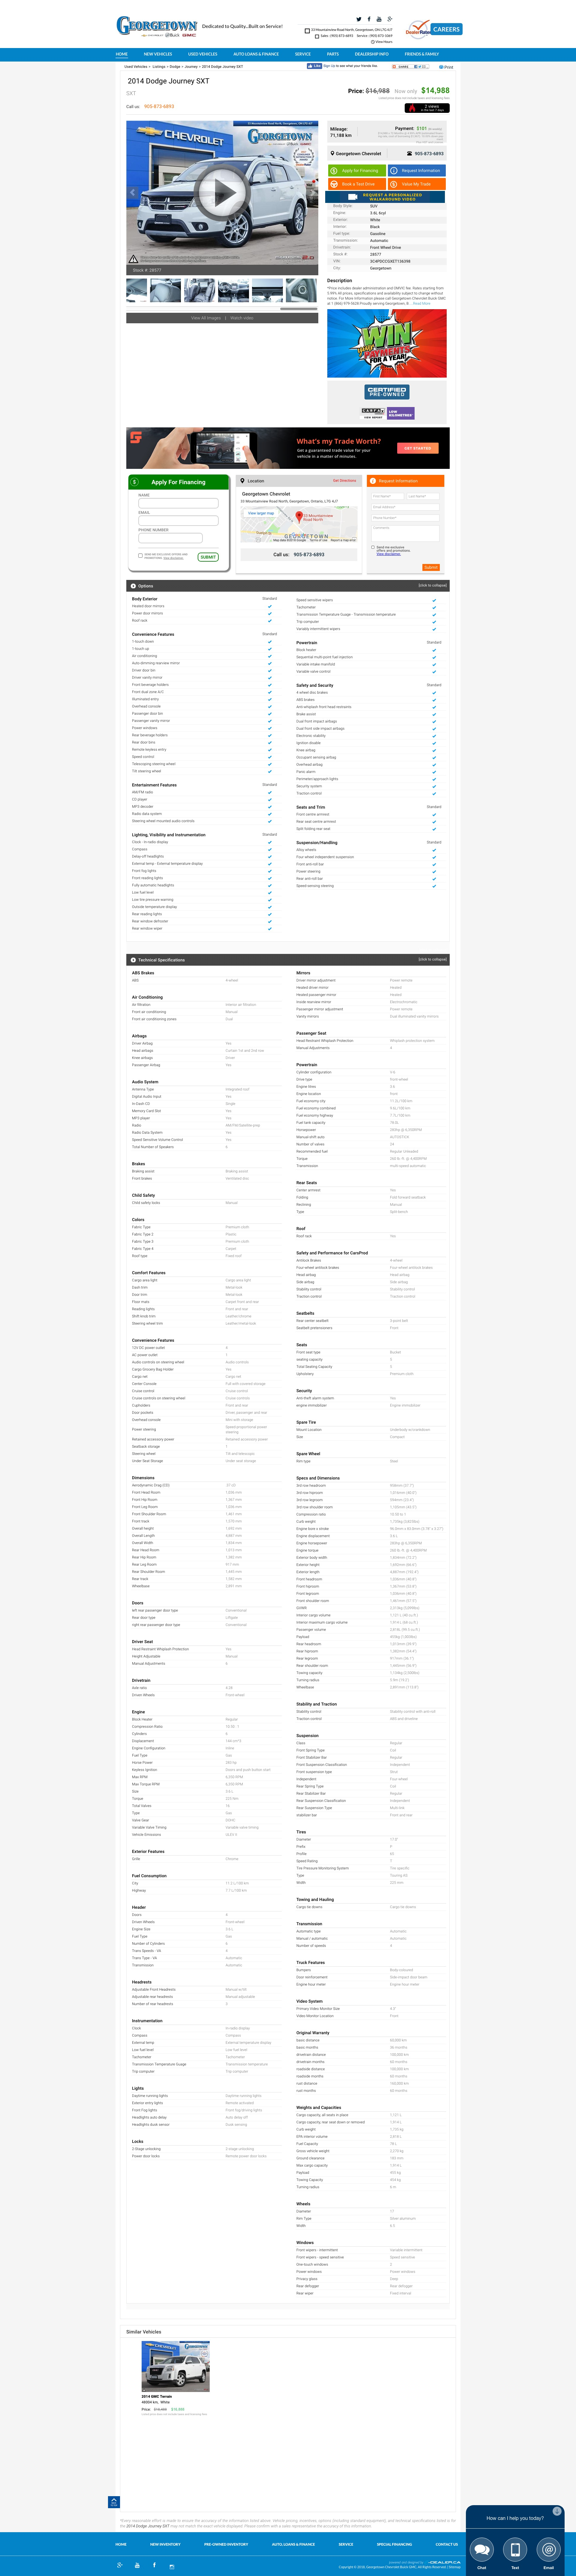car: (310, 189, 315, 197)
